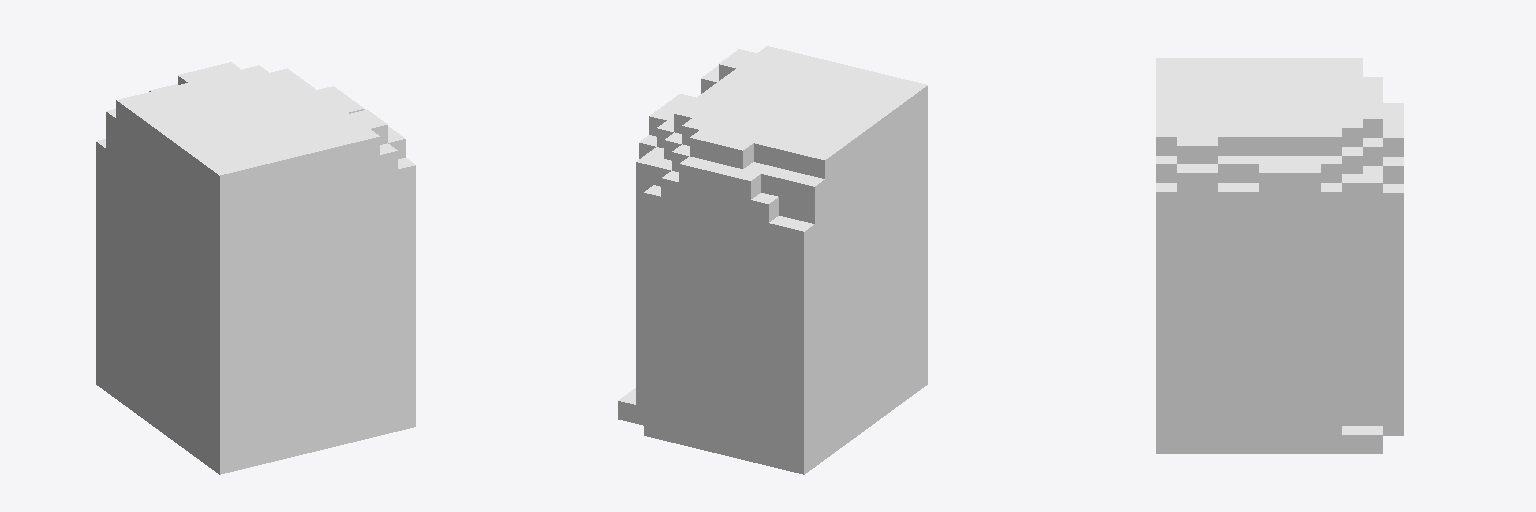
File: stone4.obj
3 renders of one model, left to right at view 1: azimuth 30°, elevation 25°; view 2: azimuth 150°, elevation 25°; view 3: azimuth 270°, elevation 25°, orthographic.
Bounding box in the file's own units: 11 × 16 × 12.